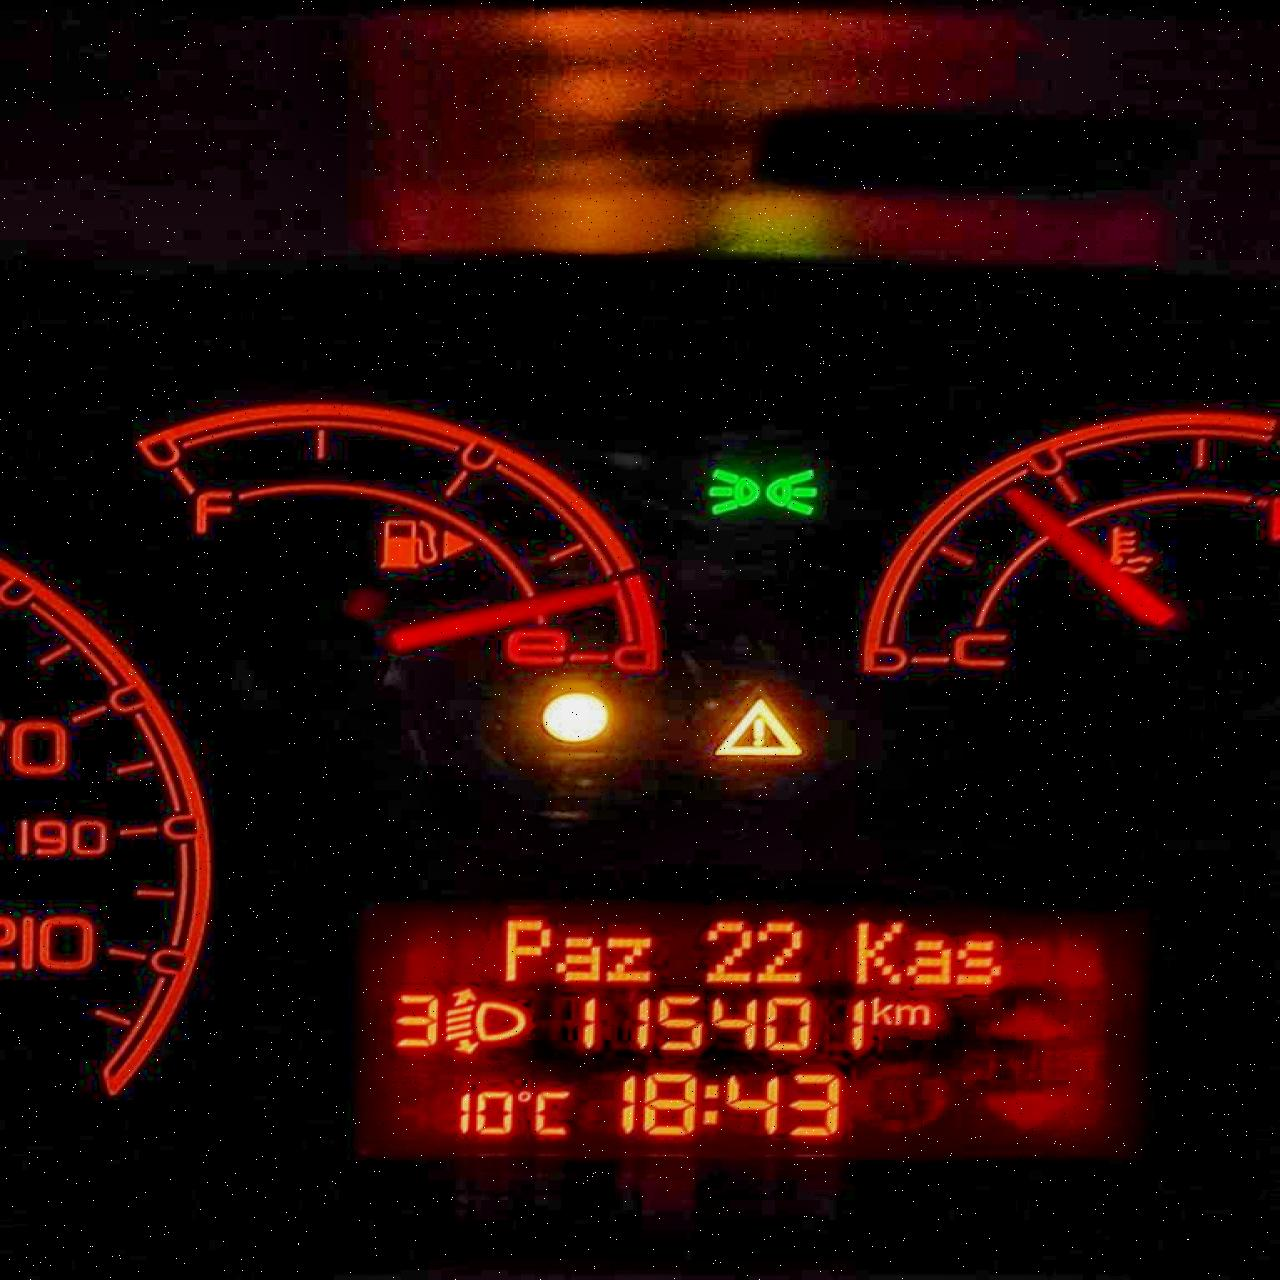0: (762, 995, 813, 1053), (475, 1089, 513, 1136)
1: (577, 995, 598, 1050), (618, 1073, 636, 1132), (845, 996, 865, 1050), (632, 994, 651, 1049), (456, 1090, 472, 1133)
2: (750, 917, 805, 982), (700, 918, 754, 983)
3: (784, 1070, 843, 1138), (393, 992, 441, 1048)
4: (726, 1073, 781, 1137), (708, 995, 761, 1051)
5: (655, 993, 703, 1050)
8: (641, 1070, 699, 1136)
X: (851, 920, 906, 983), (503, 917, 553, 982), (600, 933, 653, 982), (904, 935, 954, 986), (953, 937, 1002, 987), (553, 933, 602, 982), (530, 1089, 572, 1137), (892, 1000, 933, 1024), (699, 1080, 720, 1125), (871, 995, 892, 1024)
odometer: (350, 892, 1165, 1166)
